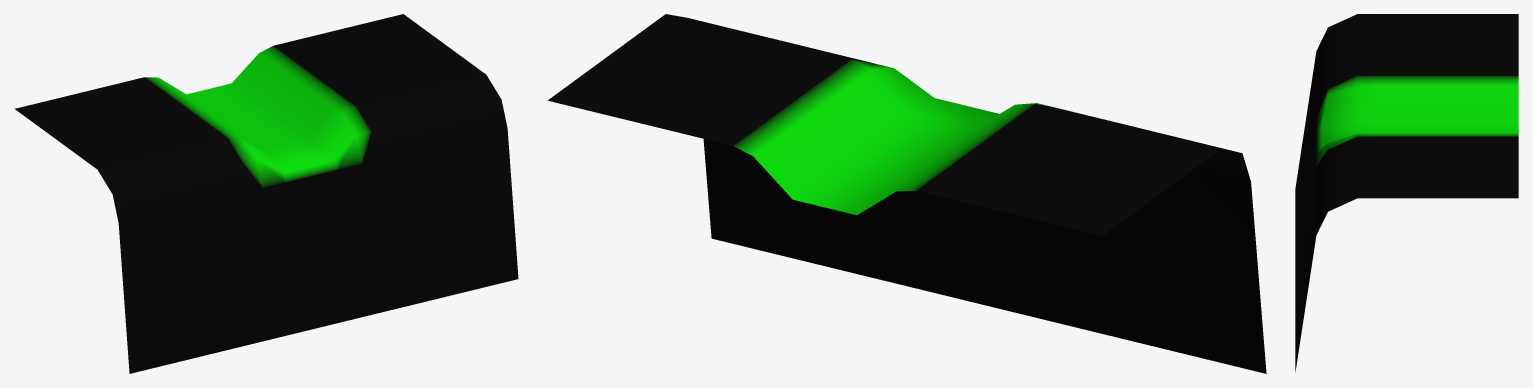
Rendered from SM_Ground_16m_CliffWaterfall.FBX.
3 views of the same model, side by side, from view 1: azimuth 30°, elevation 25°; view 2: azimuth 150°, elevation 25°; view 3: azimuth 270°, elevation 25° (orthographic). The views are drawn at different scales.
Parts seen in each view (by area): view 1: SM_Ground_16m_CliffWaterfall; view 2: SM_Ground_16m_CliffWaterfall; view 3: SM_Ground_16m_CliffWaterfall.
Part boxes in pixels (bbox=[...]): SM_Ground_16m_CliffWaterfall: bbox=[15, 14, 518, 373]; SM_Ground_16m_CliffWaterfall: bbox=[548, 14, 1266, 373]; SM_Ground_16m_CliffWaterfall: bbox=[1295, 14, 1518, 372].
Bounding box in the file's own units: 1600 × 820 × 711.
